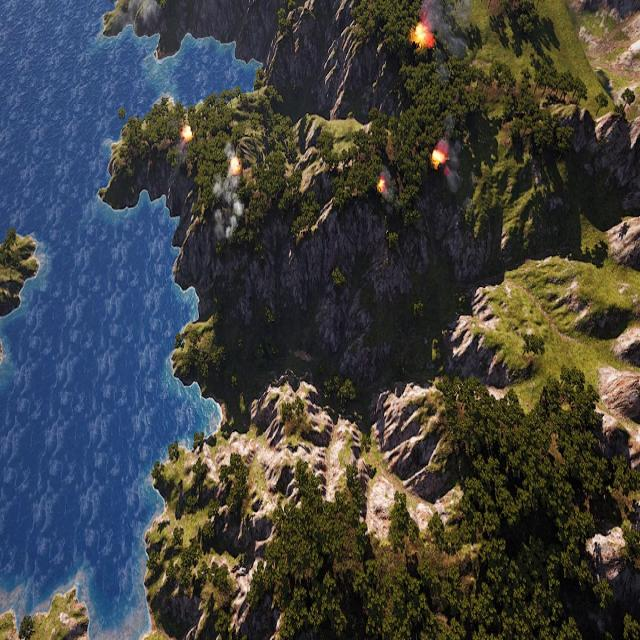fire: (414, 23, 434, 50), (181, 121, 193, 147), (228, 154, 242, 174), (431, 148, 445, 167), (376, 175, 386, 198)
smoke: (208, 143, 245, 246), (420, 0, 462, 58), (439, 125, 466, 203)
